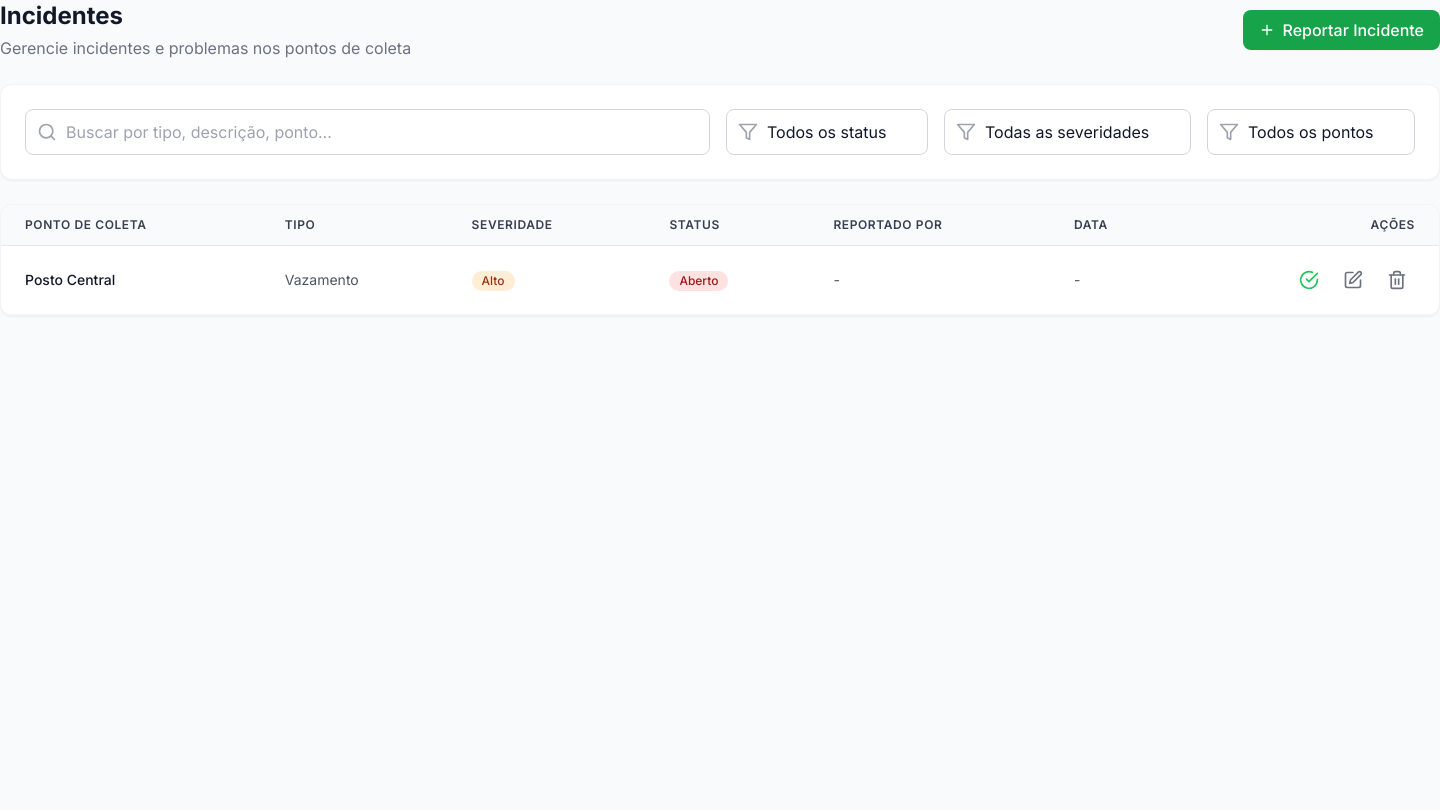
Test: IncidentsPage › opens the incident report modal
Click the button "Reportar Incidente".
click(1341, 30)  # box [1242,10,1439,50]
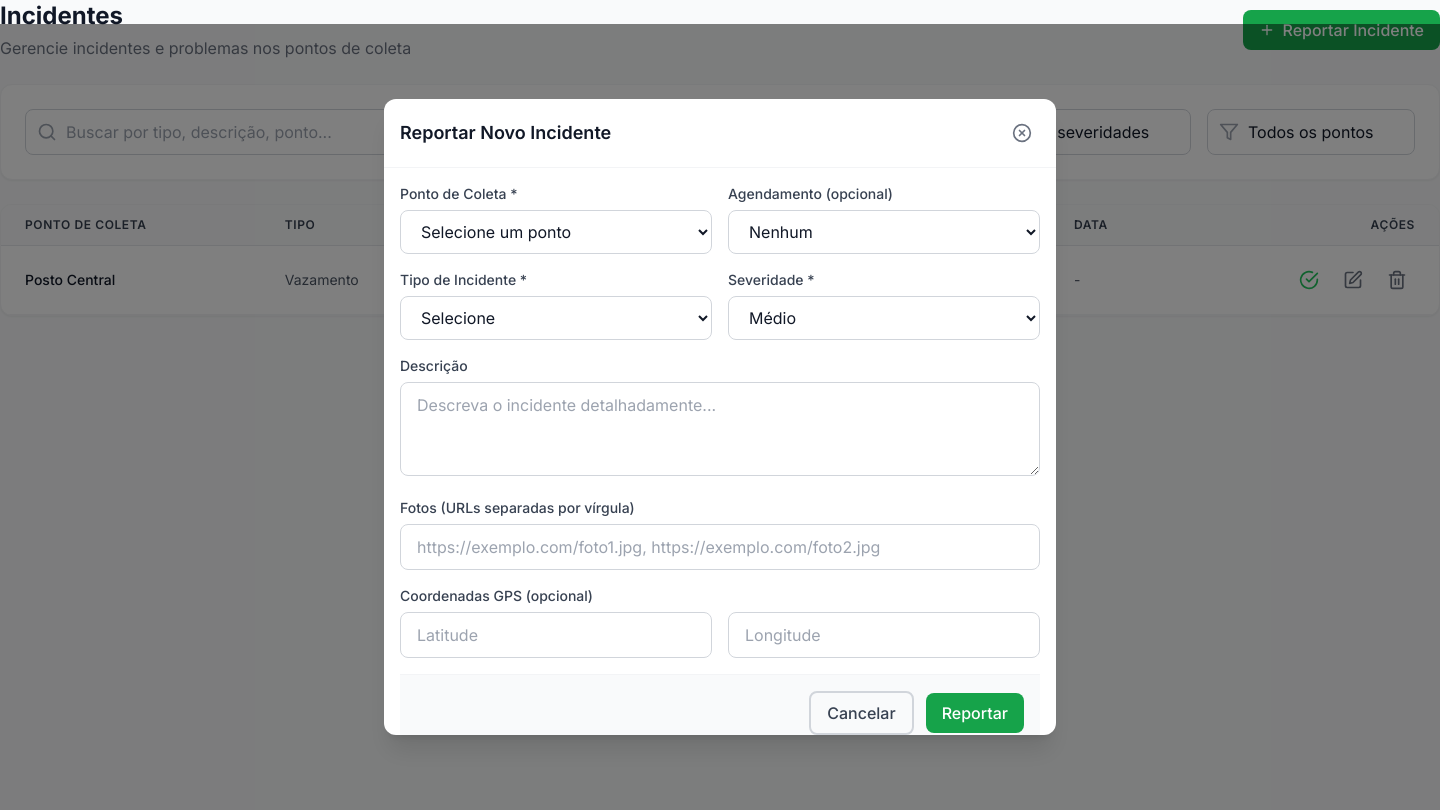
Expected: the heading "Reportar Novo Incidente" is shown, [400,119,611,147]
